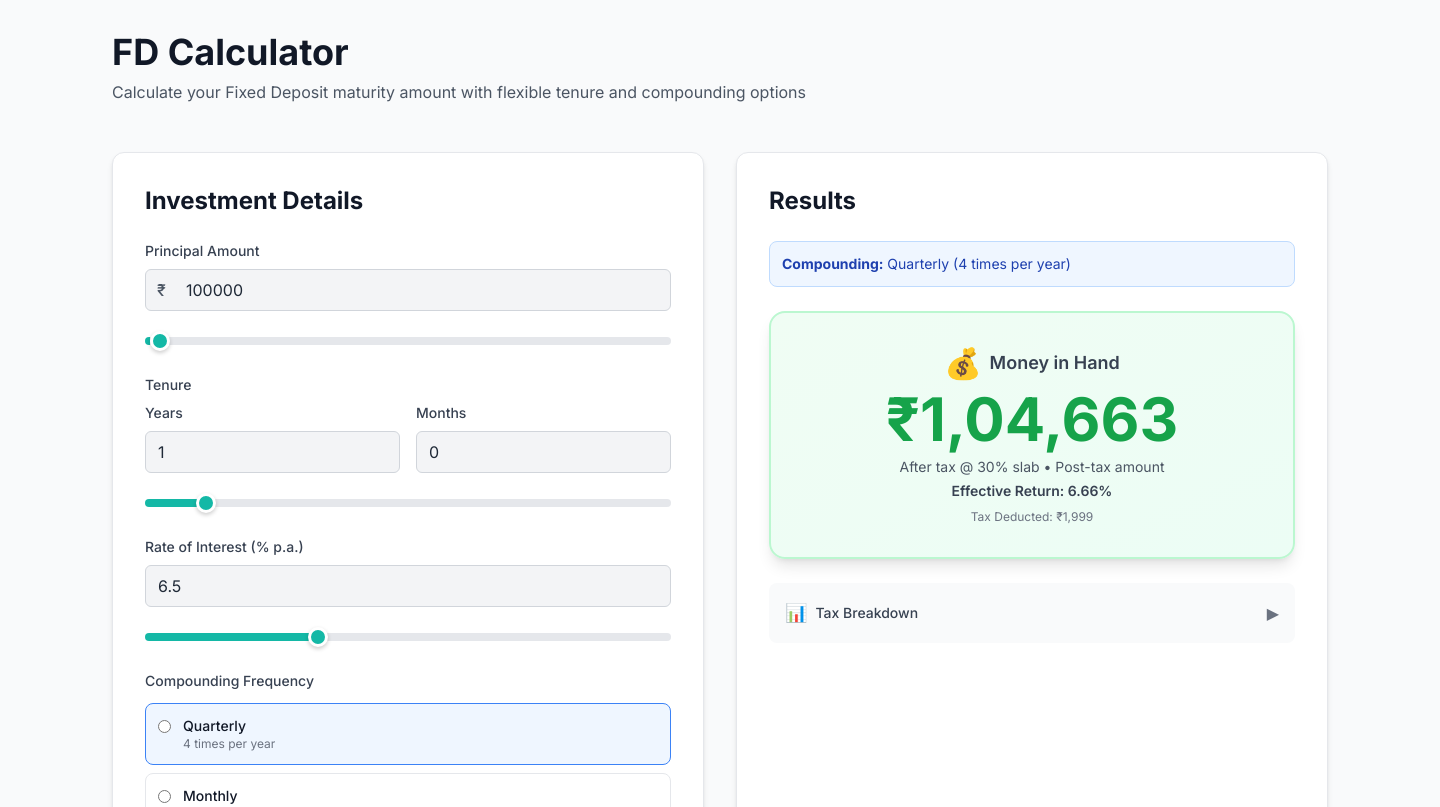
FD Calculator › FD-11: Negative principal rejected › shows validation when principal is negative
Type "-5000" into the number field below "Principal Amount".
click(408, 290); type("-5000")  # box [145,269,671,311]
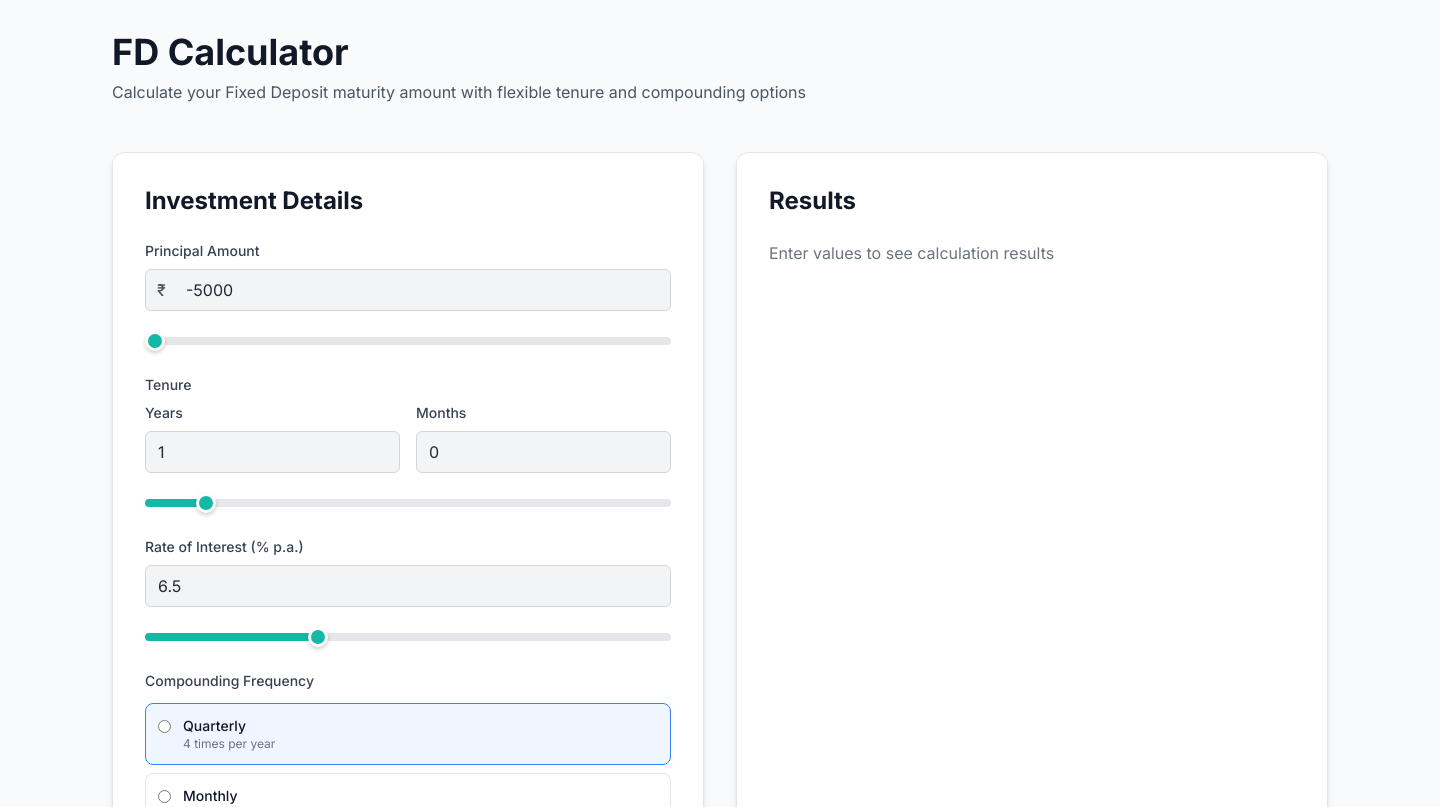
Leave the number field below "Principal Amount", box [145,269,671,311]
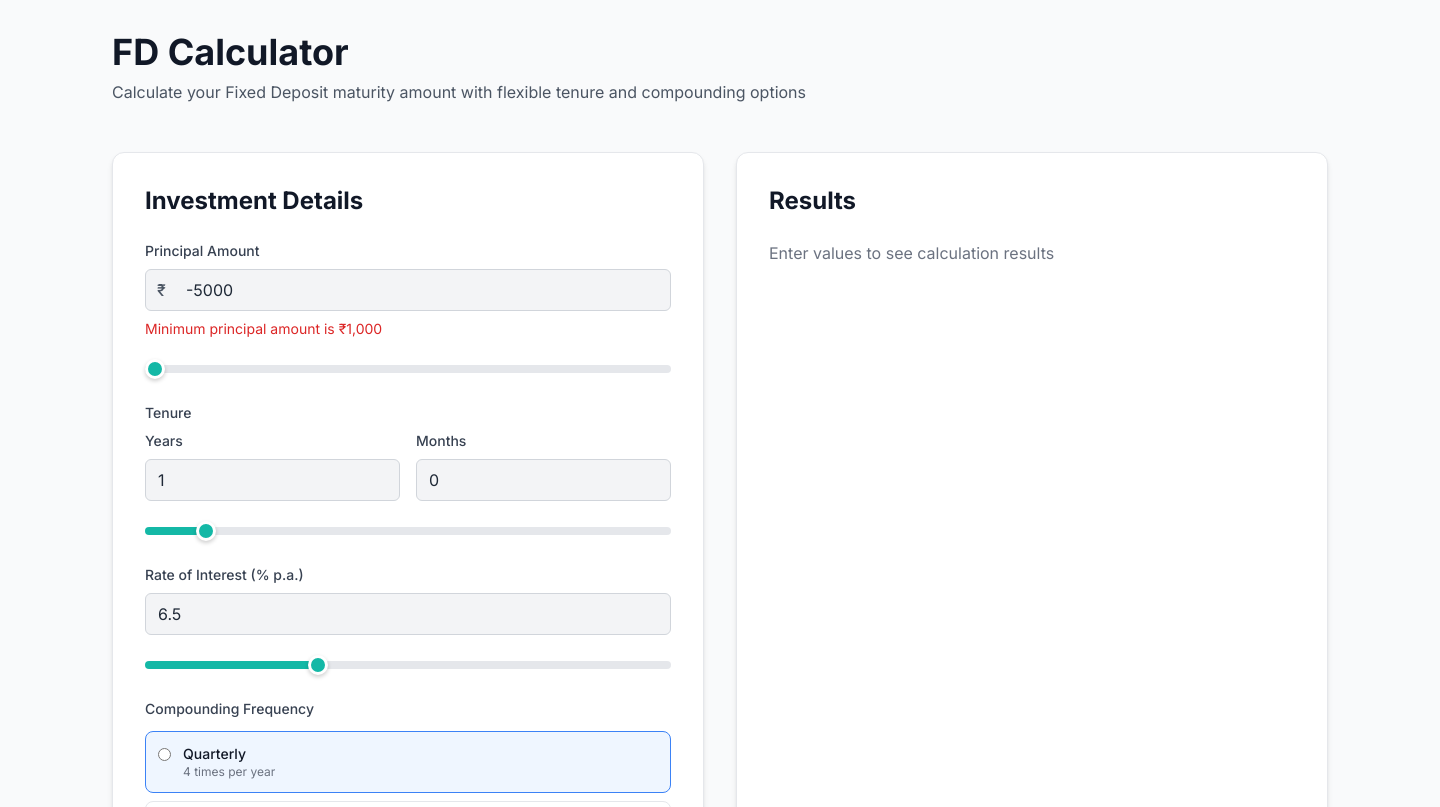
Expected: the text "Minimum principal amount is ₹1,000" is shown, [145,320,382,337]
